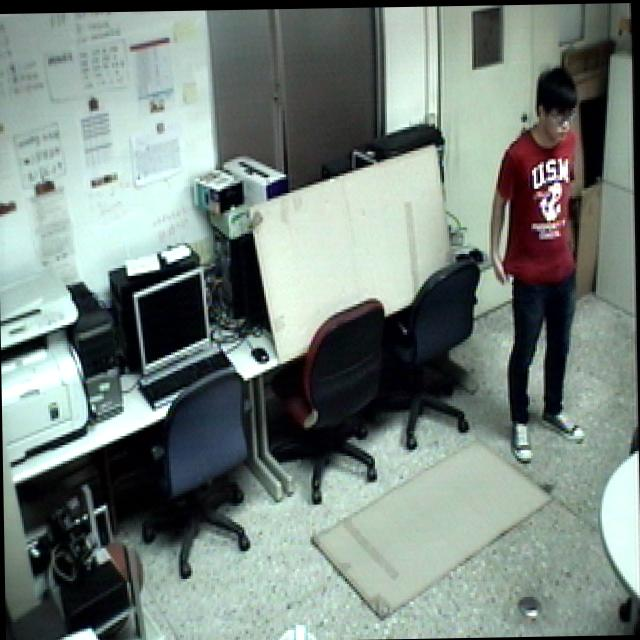stand: (476, 59, 602, 466)
